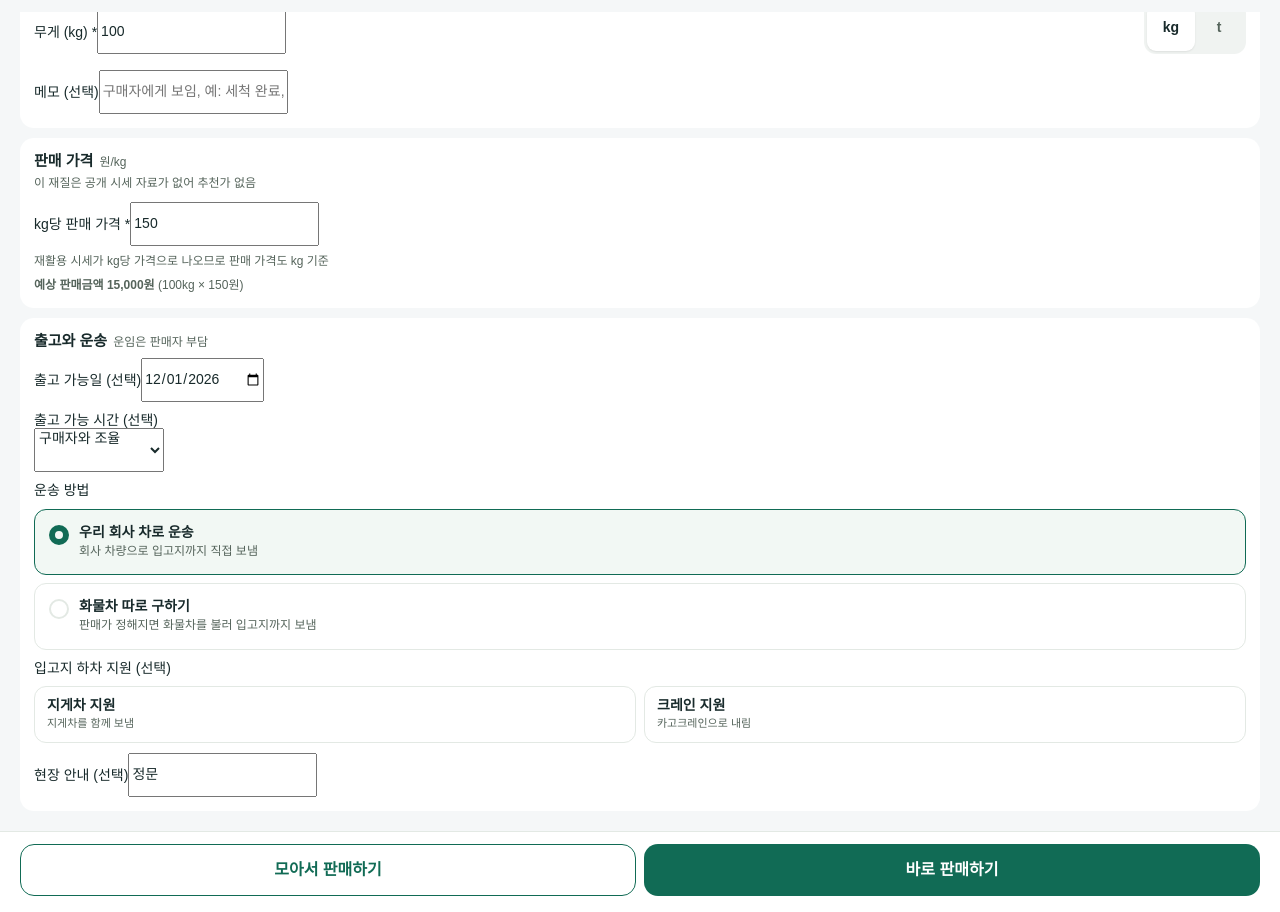
Test: 확인 화면에서 돌아와도 같은 등록 물품을 재사용하며 재시도도 중복 생성하지 않음
Later steps or results of the test are not shown.
Click the button "바로 판매하기" at (952, 870), box [644,844,1260,896]
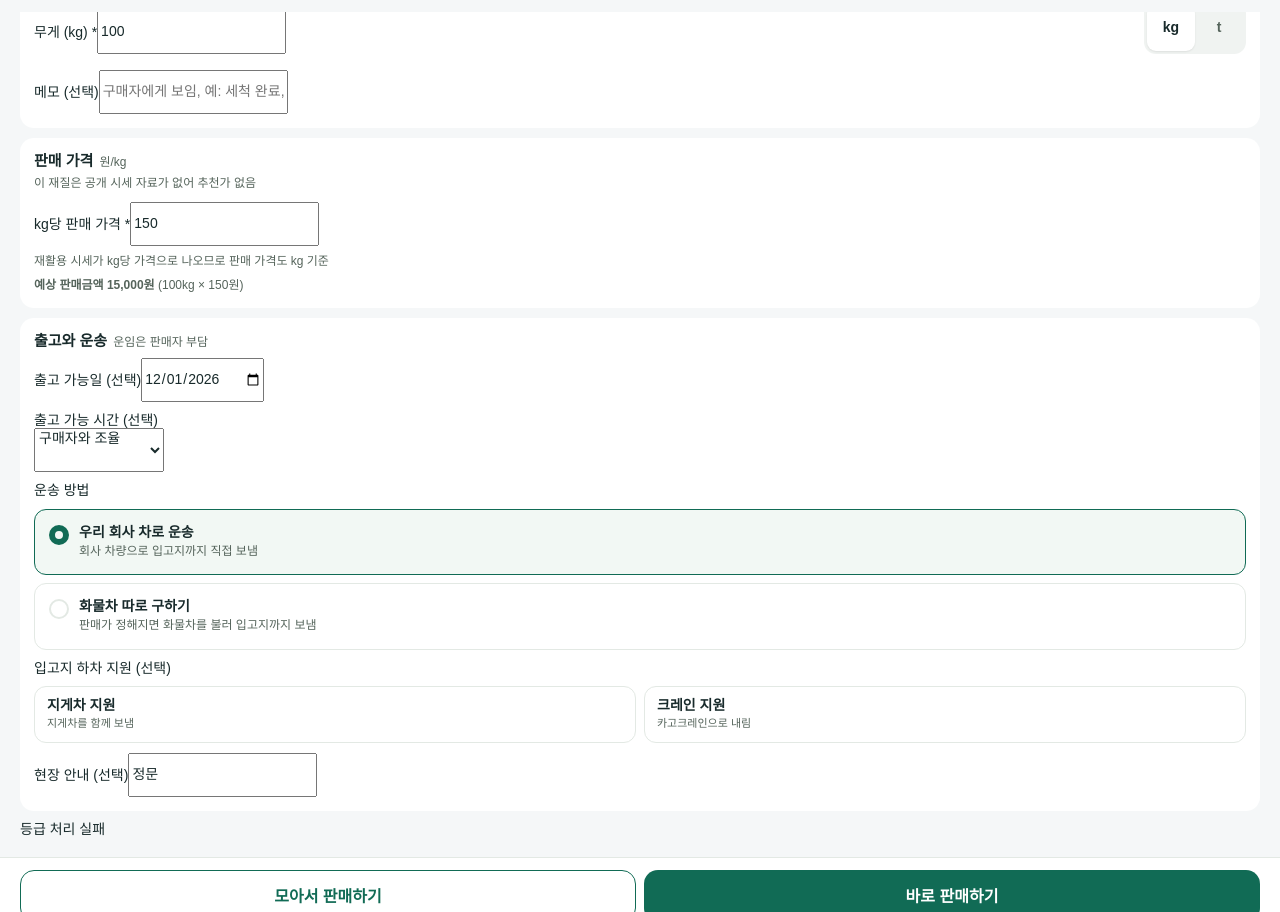
Now the message "등급 처리 실패" is shown, box [20,820,105,836]
